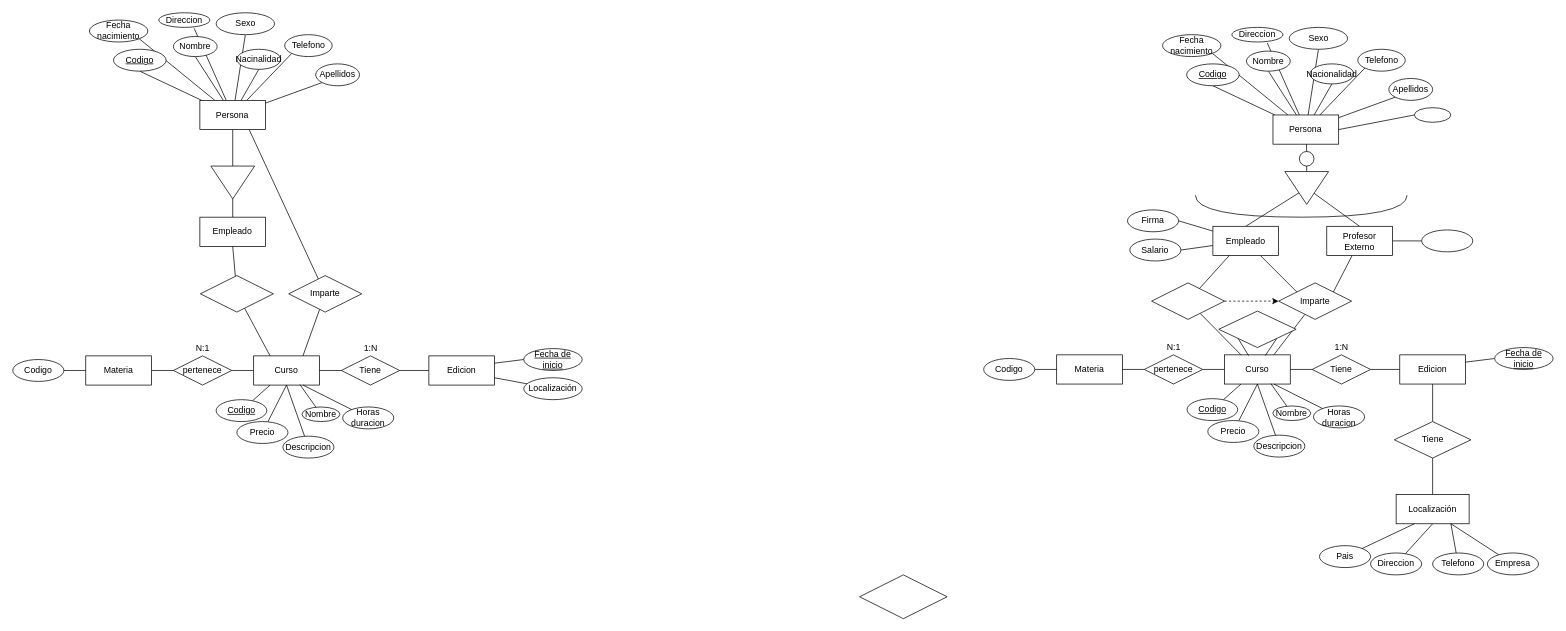
This 1566x631 diagram has some shape labels left out. Here are the shapes that lost their labels. From the top down, the centre of each, then its label:
At (1432,114): "ID".
At (1447,240): "Autonomo".
At (236,293): "Asiste".
At (1188,300): "Realiza".
At (1257,329): "Prerrequisito de".
At (903,596): "Relationship".
